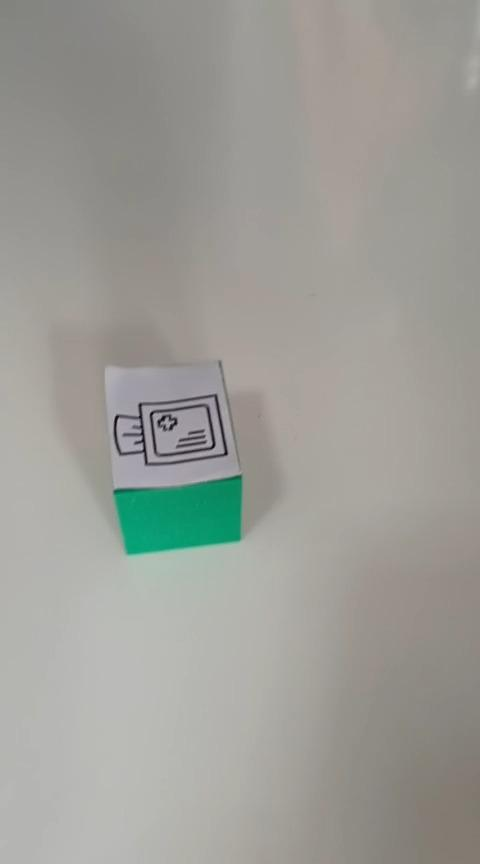Gauze: (102, 358, 244, 556)
